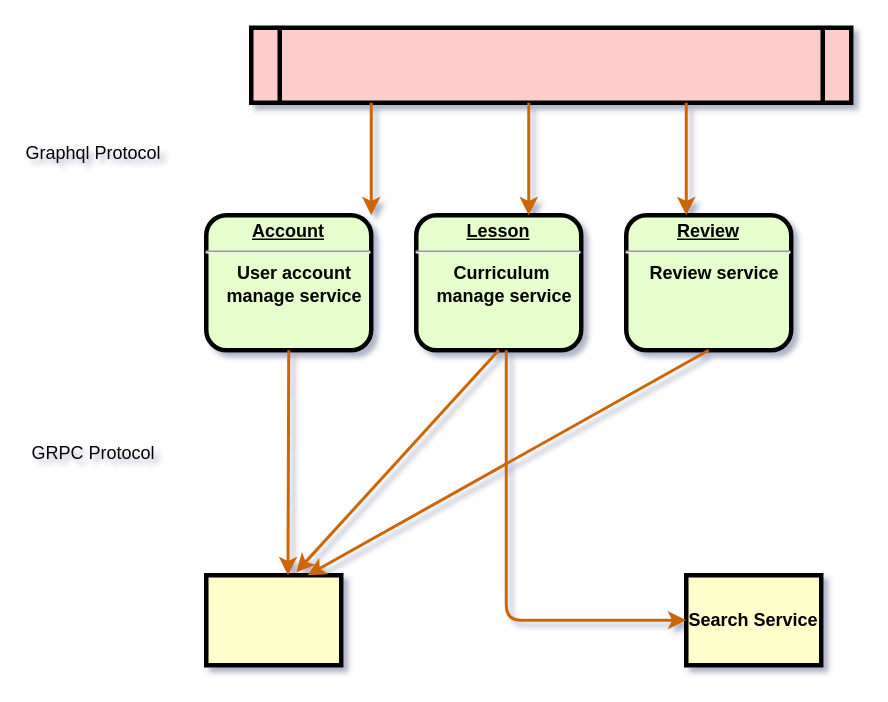
This 888x702 diagram has some shape labels left out. The centre of each missing label's shape, as x and y in pixels:
Gateway Endpoint: [550,64]
Image Upload Service: [273,619]
